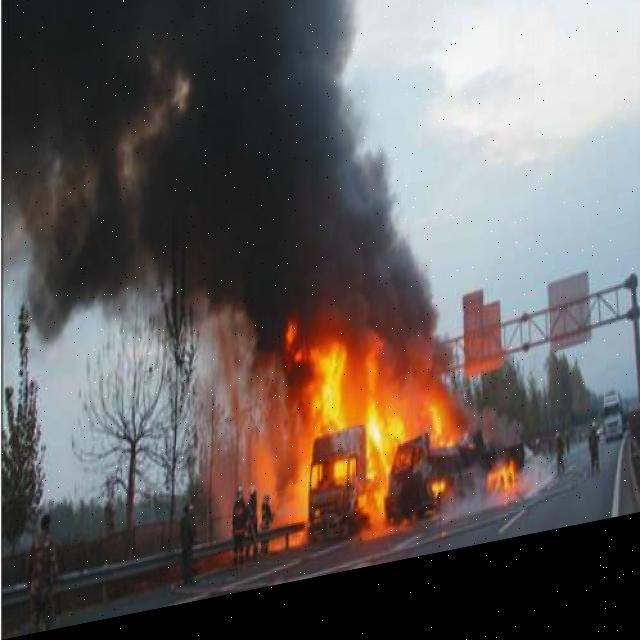Fire: (279, 307, 469, 563), (487, 472, 518, 524)
